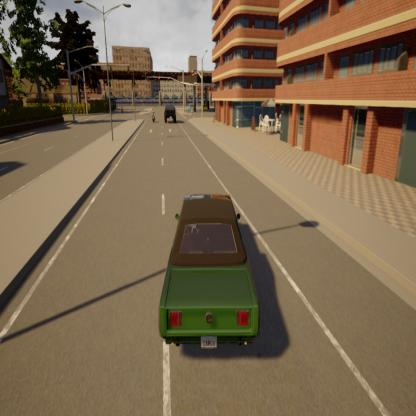Cars: (151, 184, 266, 360), (161, 102, 178, 127)
